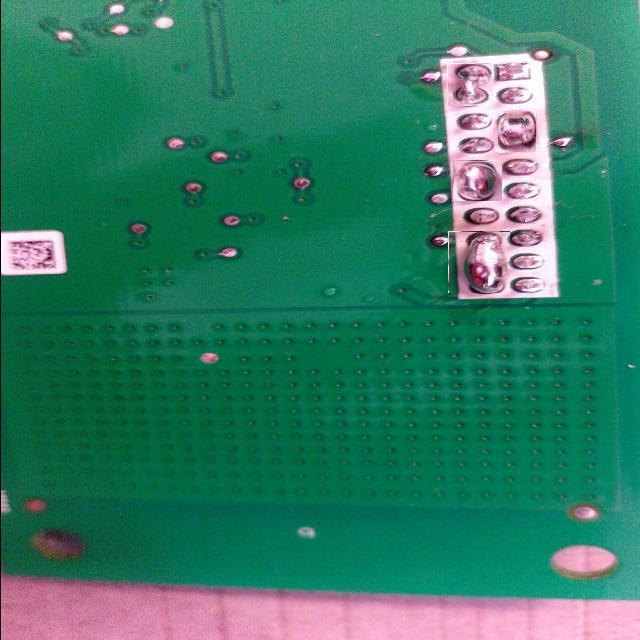Short_circuit: (448, 231, 510, 293), (453, 160, 502, 201), (447, 63, 492, 106), (496, 112, 537, 153)
